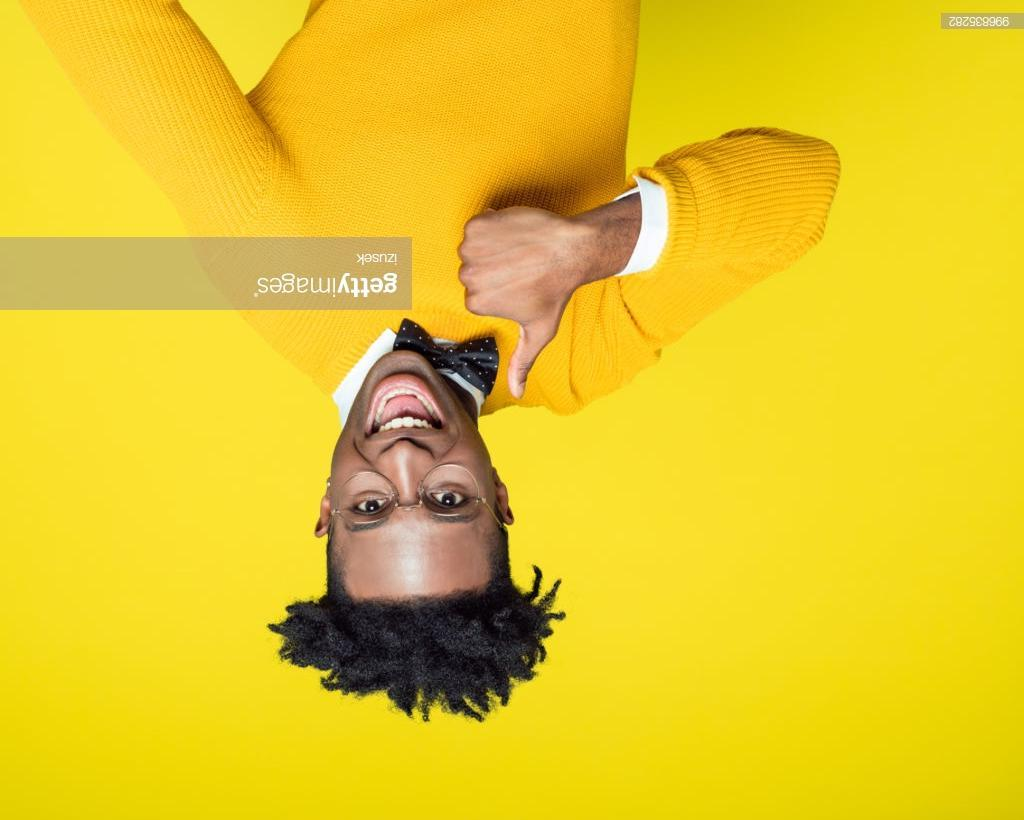thumbsdown: (459, 207, 550, 399)
